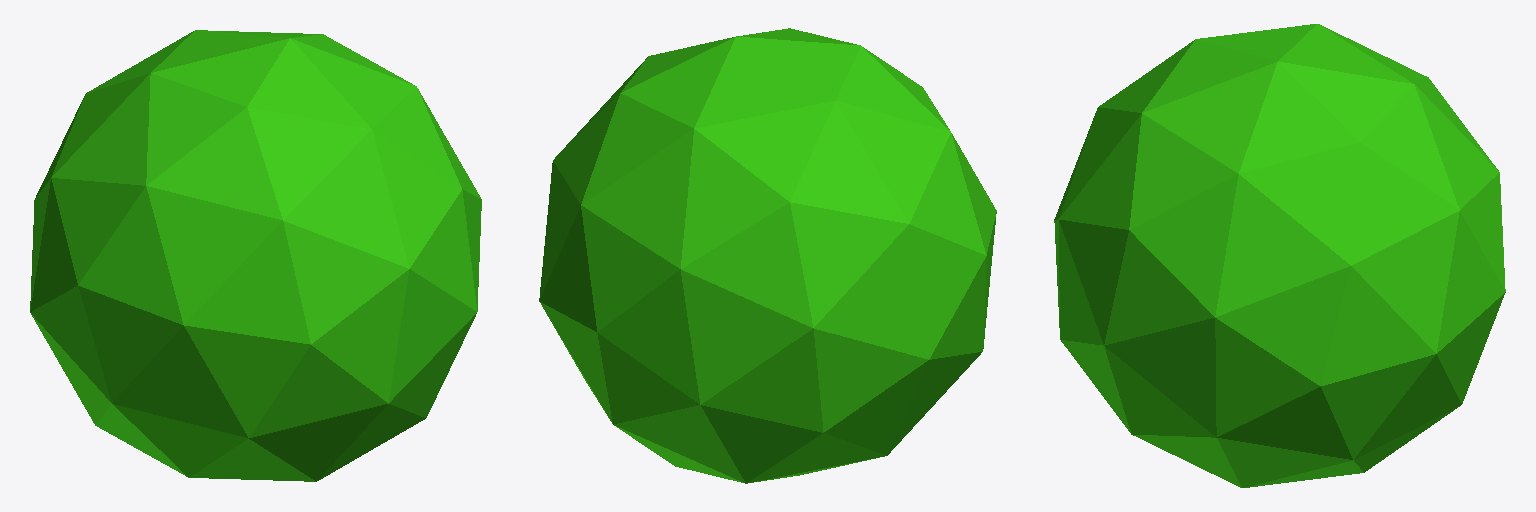
File: WHGPoint.obj
The picture shows the model from 3 angles: view 1: azimuth 30°, elevation 25°; view 2: azimuth 150°, elevation 25°; view 3: azimuth 270°, elevation 25°; orthographic projection.
Parts seen in each view (by area): view 1: Point_Malus_Buff; view 2: Point_Malus_Buff; view 3: Point_Malus_Buff.
Part boxes in pixels (x1,y1,x2,y2): Point_Malus_Buff: (30,30,481,481); Point_Malus_Buff: (539,28,996,483); Point_Malus_Buff: (1054,24,1505,487).
Size of the model in its own units: 0.6033 by 0.6123 by 0.5946.